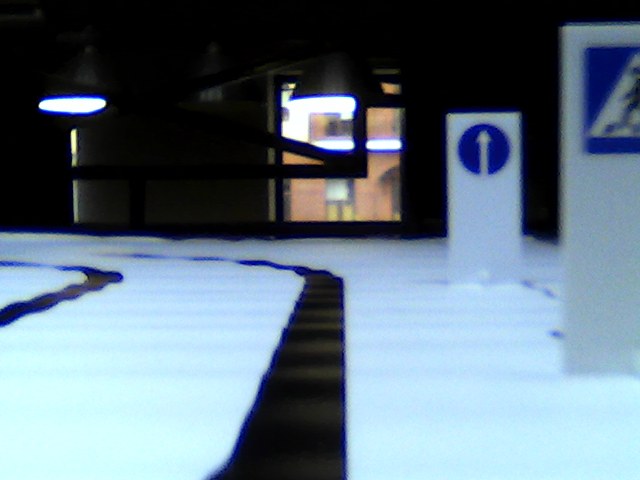forw: (455, 123, 511, 175)
pesh: (579, 42, 640, 157)
